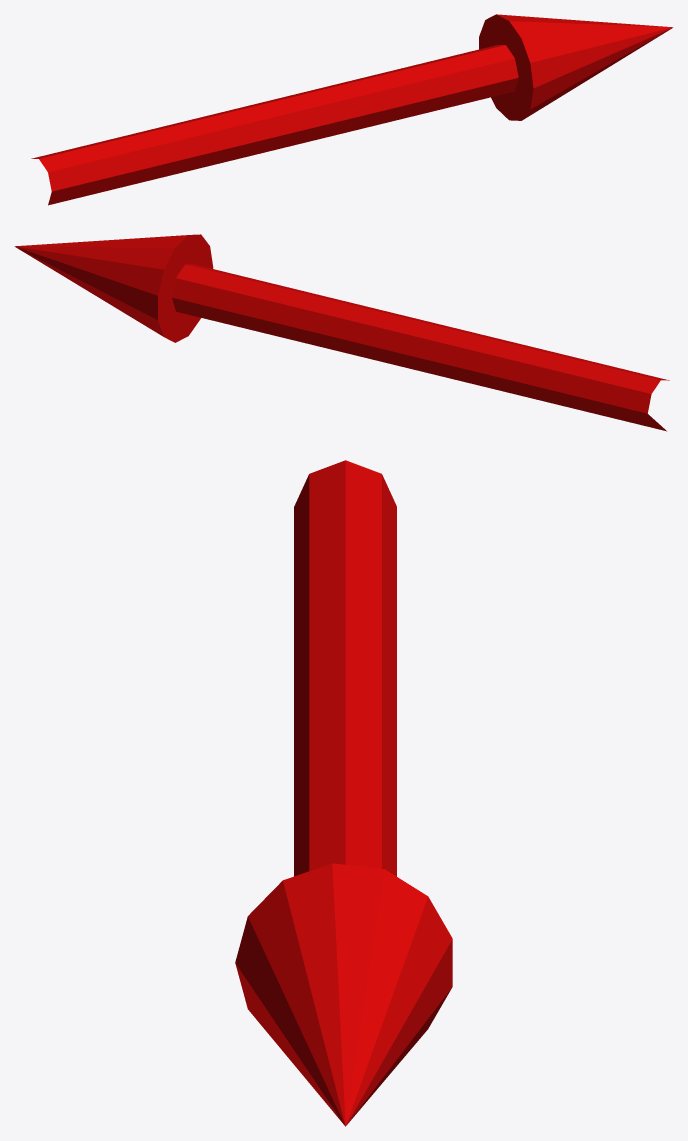
Rendered from translation-gizmo-x.glb.
3 renders of one model, top to bottom at view 1: azimuth 30°, elevation 25°; view 2: azimuth 150°, elevation 25°; view 3: azimuth 270°, elevation 25°, orthographic. The views are drawn at different scales.
Parts seen in each view (by area): view 1: translation-gizmo-x; view 2: translation-gizmo-x; view 3: translation-gizmo-x.
Boxes of the visible parts, bbox=[...] form: translation-gizmo-x: bbox=[31, 14, 673, 205]; translation-gizmo-x: bbox=[14, 234, 669, 431]; translation-gizmo-x: bbox=[235, 460, 452, 1126].
Bounding box in the file's own units: 3.71 × 0.5404 × 0.5365.
